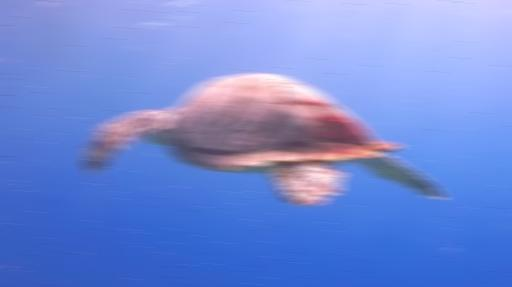Fish: (84, 73, 443, 204)
